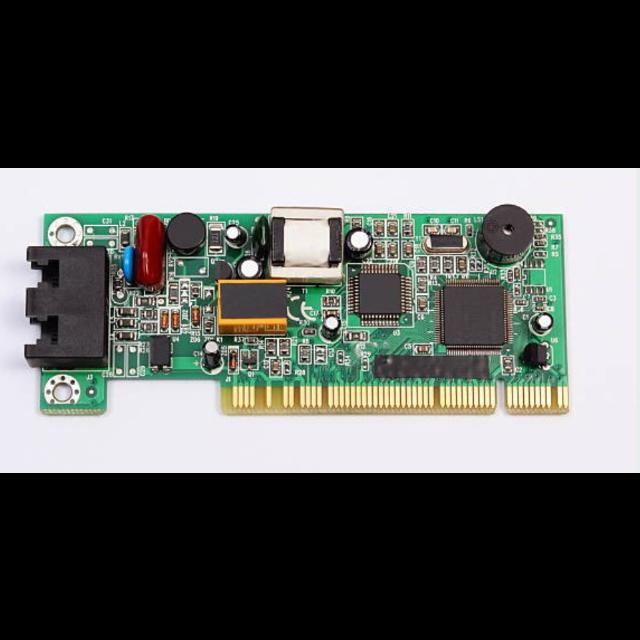PCB: (23, 204, 570, 416)
